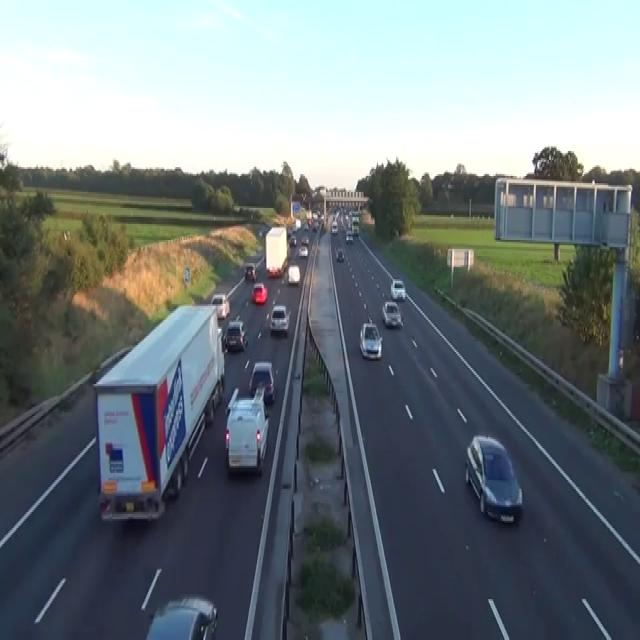Car: (464, 434, 523, 524), (145, 594, 218, 638), (90, 345, 134, 386), (248, 361, 275, 403), (359, 322, 382, 359), (224, 320, 248, 352), (269, 304, 290, 334), (381, 301, 402, 327), (210, 292, 229, 320), (251, 283, 267, 304), (390, 278, 405, 300), (287, 263, 300, 285), (244, 263, 256, 281), (217, 325, 224, 352), (267, 265, 281, 277), (298, 245, 308, 258), (335, 247, 344, 261), (331, 220, 338, 233), (63, 229, 70, 242), (300, 235, 309, 245), (345, 231, 353, 242), (288, 235, 296, 245), (351, 224, 358, 235), (286, 246, 291, 260), (312, 222, 317, 231), (291, 224, 296, 233), (303, 222, 308, 230), (258, 230, 262, 237)
Truck: (92, 302, 225, 523), (224, 384, 270, 475), (265, 226, 288, 277)
